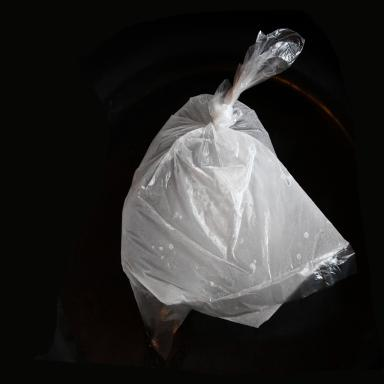plasticbag: (120, 31, 358, 359)
